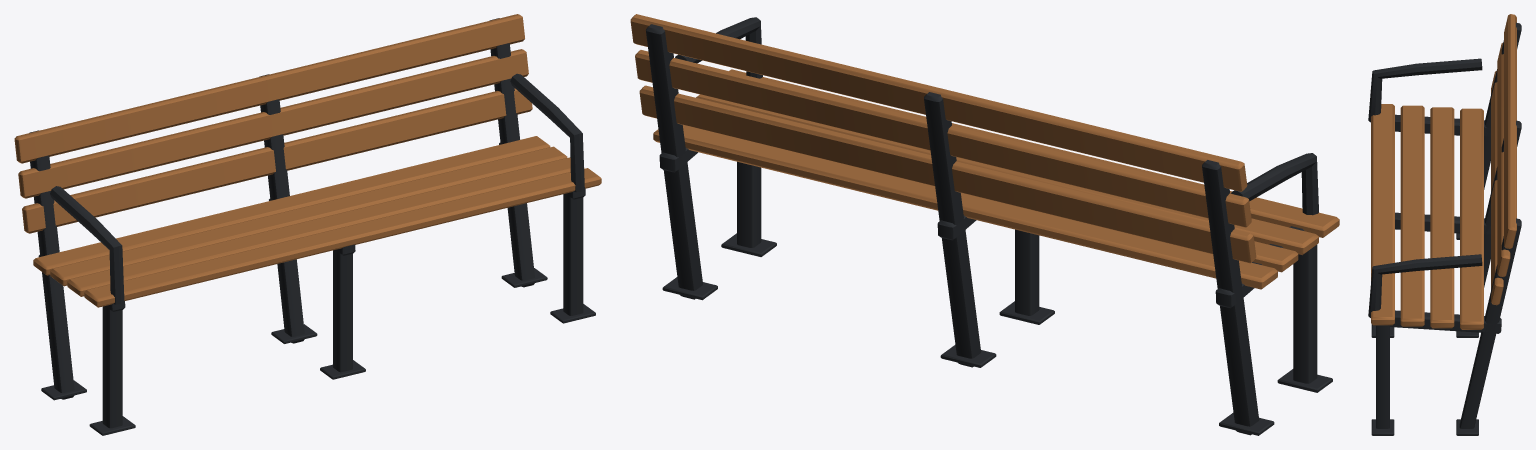
Rendered from Bench.fbx.
The picture shows the model from 3 angles, left to right: view 1: azimuth 30°, elevation 25°; view 2: azimuth 150°, elevation 25°; view 3: azimuth 270°, elevation 25°; orthographic projection. The views are drawn at different scales.
Parts seen in each view (by area): view 1: Bench_Mesh; view 2: Bench_Mesh; view 3: Bench_Mesh.
Boxes of the visible parts, x1=… form: Bench_Mesh: x1=14, y1=14, x2=601, y2=435; Bench_Mesh: x1=630, y1=14, x2=1339, y2=435; Bench_Mesh: x1=1368, y1=14, x2=1521, y2=435.
Size of the model in its own units: 1.8 by 0.8425 by 0.5431.
